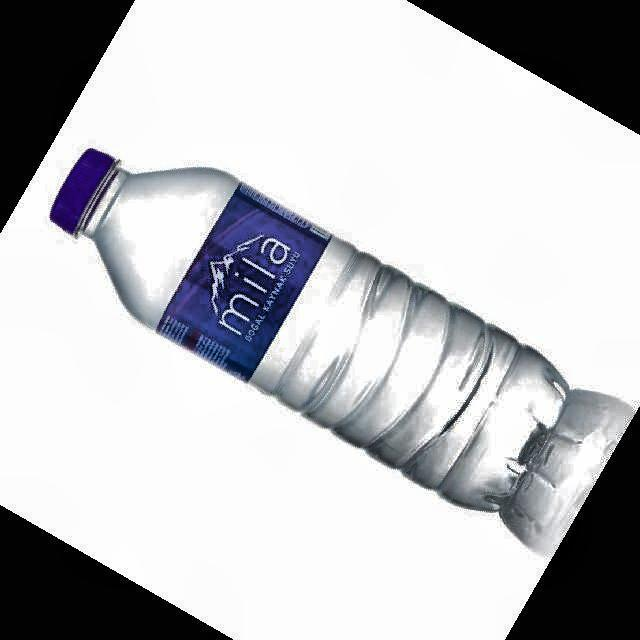plastic: (51, 150, 569, 510)
